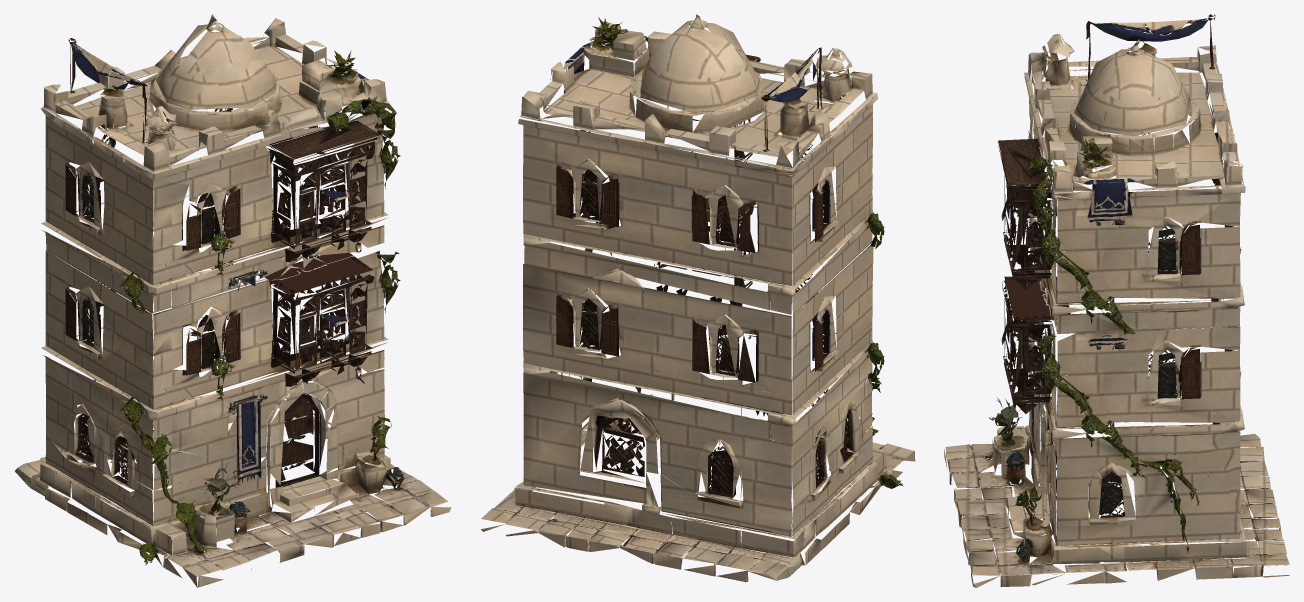
The model's file is house-1-lod.glb.
3 views of the same model, side by side, from view 1: azimuth 30°, elevation 25°; view 2: azimuth 150°, elevation 25°; view 3: azimuth 270°, elevation 25° (orthographic). The views are drawn at different scales.
Bounding box in the file's own units: 5.68 × 8.78 × 5.81.
Materials: 1 (1 with a texture image).
